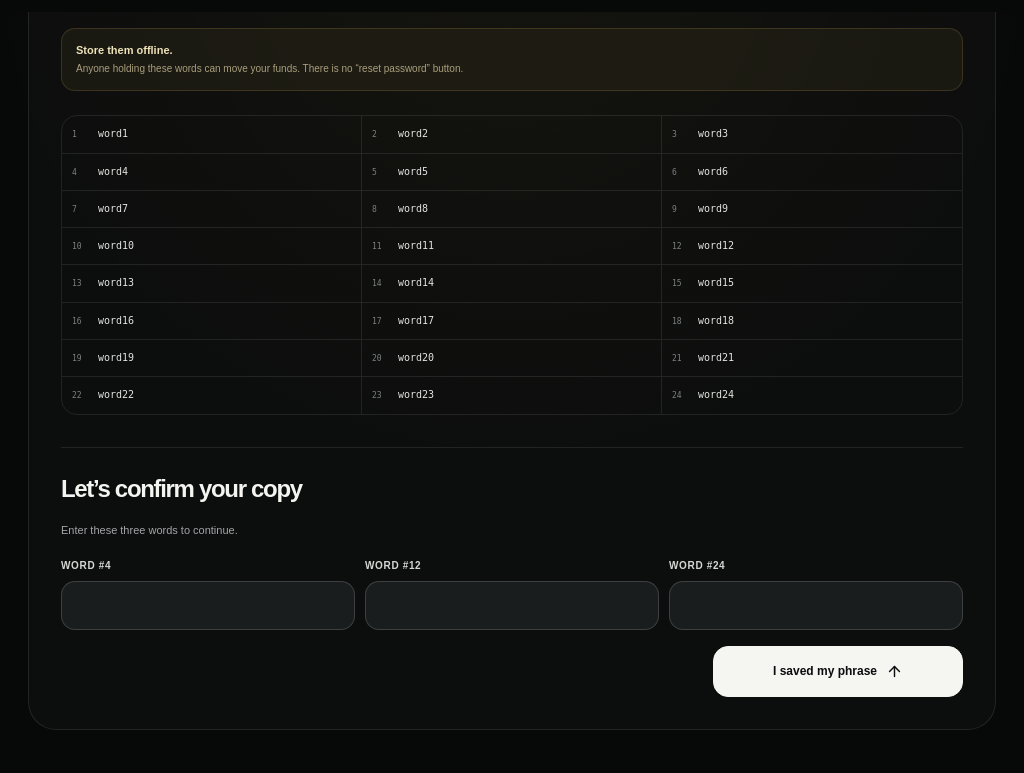
Backup confirmation › retranslates the mismatch error when the language changes
(page scrolled)
In the field labelled "Word #4": (208, 605) [61, 581, 355, 630], type "wrong"
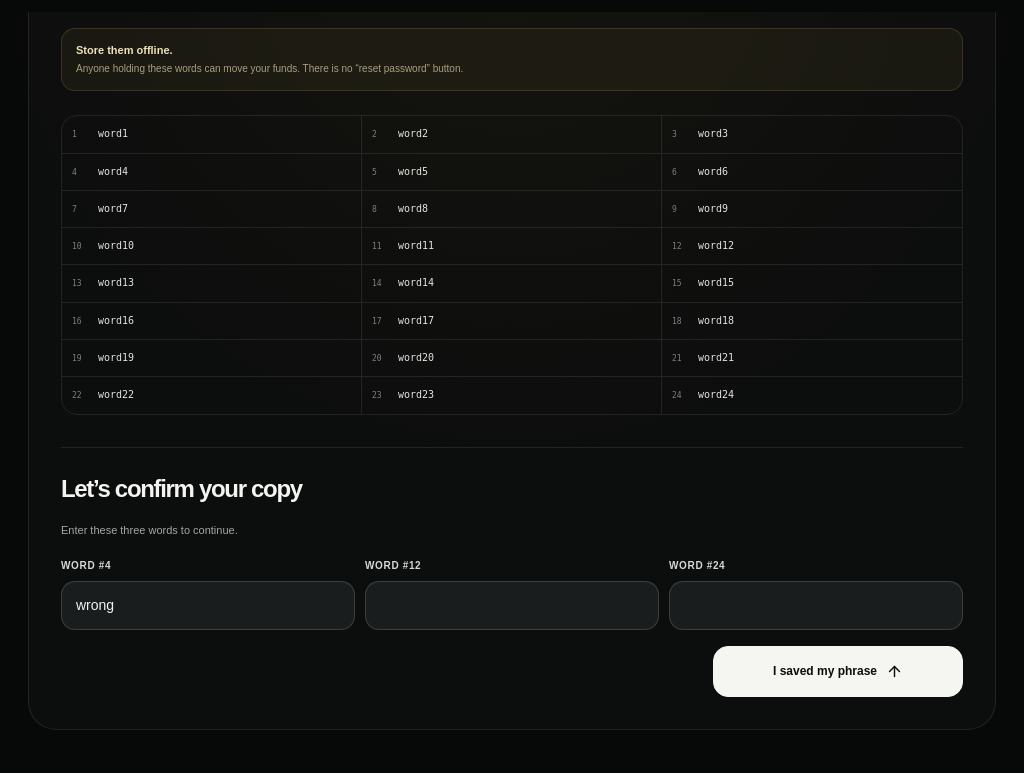
Click the button "I saved my phrase": (838, 671) [713, 646, 963, 697]
(page scrolled)
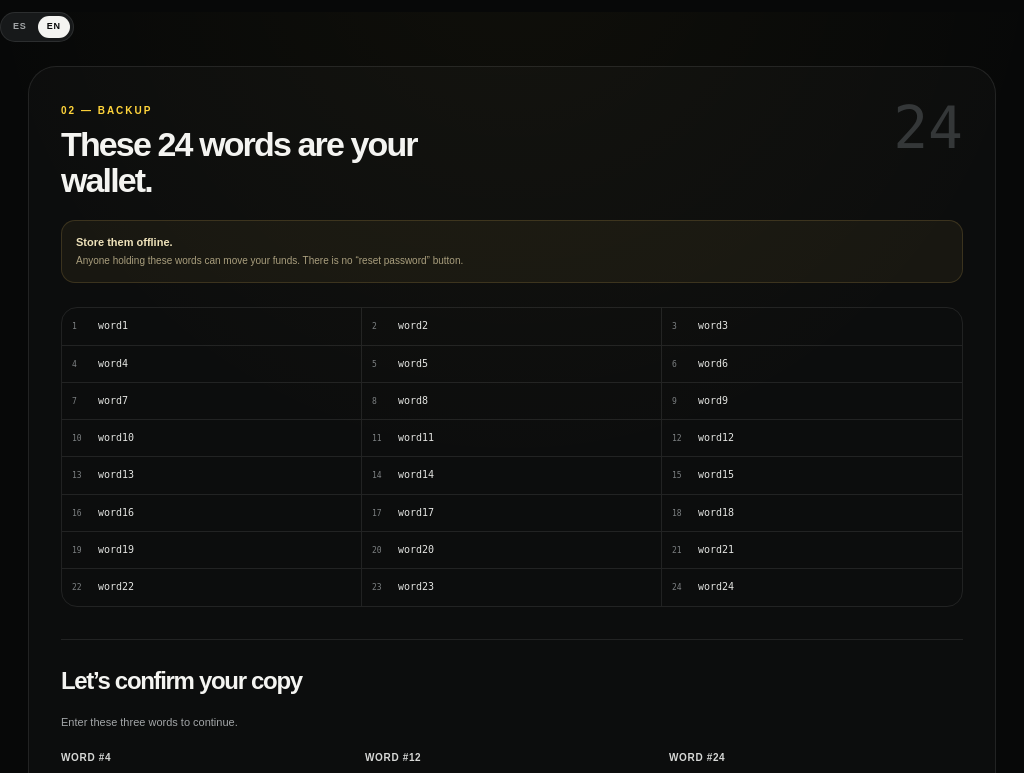
Click the button named "Español": (20, 27) [4, 16, 36, 38]
(page scrolled)
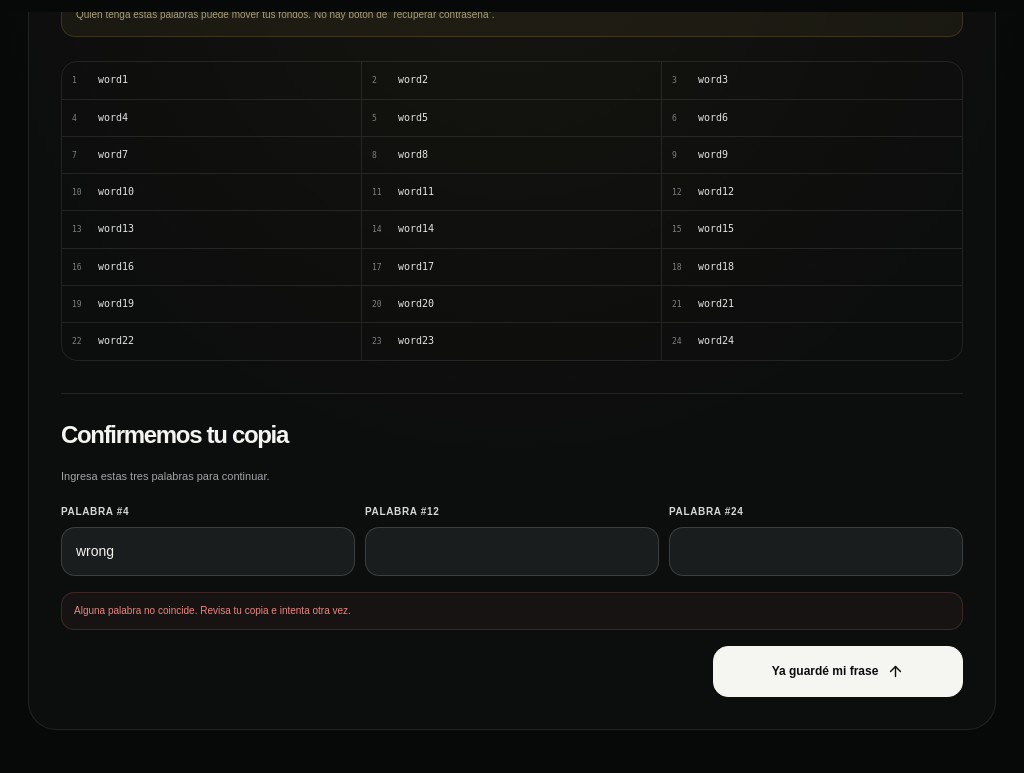
Expected: the text "Alguna palabra no coincide. Revisa tu copia e intenta otra vez." is shown, [74, 605, 351, 616]
